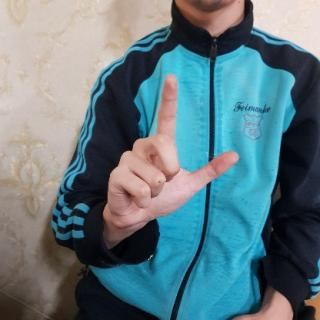LAAM: (106, 72, 242, 232)
